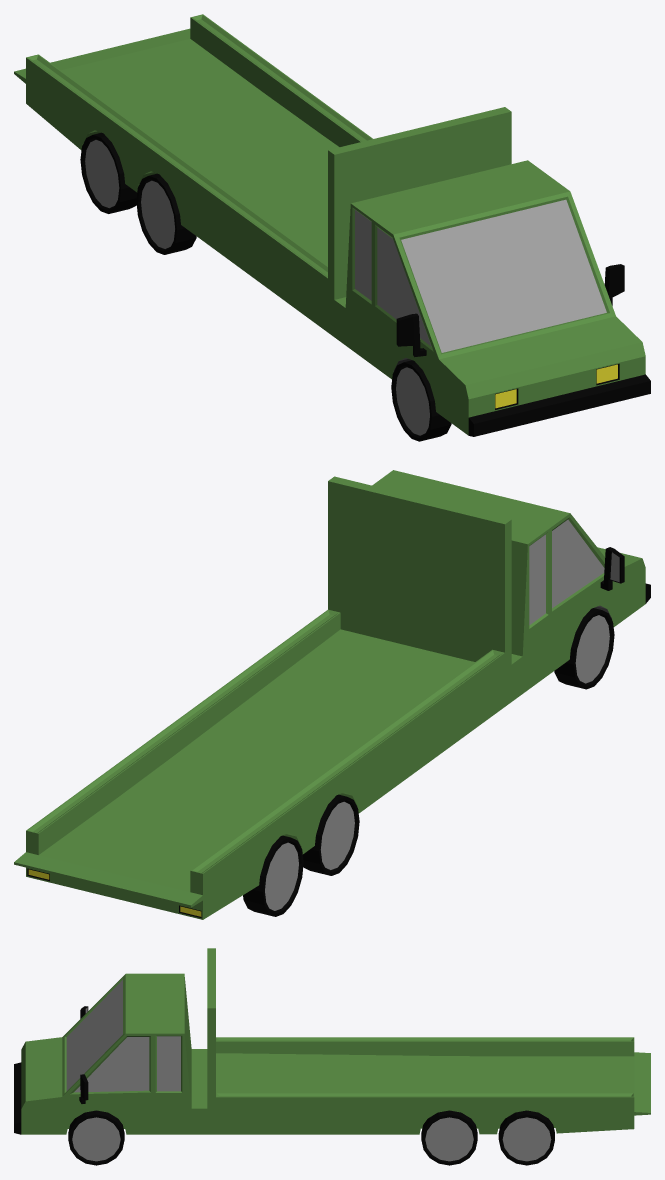
The model's file is Flatback Truck 1.fbx.
The picture shows the model from 3 angles, top to bottom: view 1: azimuth 30°, elevation 25°; view 2: azimuth 150°, elevation 25°; view 3: azimuth 270°, elevation 25°; orthographic projection. The views are drawn at different scales.
Parts seen in each view (by area): view 1: Flatback Truck Body.001, Wheel RR 1.001, Wheel FR.013, Wheel RR 2.001; view 2: Flatback Truck Body.001, Wheel RR 2.001, Wheel FR.013, Wheel RR 1.001; view 3: Flatback Truck Body.001, Wheel RL 1.001, Wheel FL.013, Wheel RL 2.001.
Boxes of the visible parts, box(x1,y1,x2,y2) form: Flatback Truck Body.001: box(14, 14, 650, 436); Wheel RR 1.001: box(136, 173, 196, 254); Wheel FR.013: box(391, 360, 451, 441); Wheel RR 2.001: box(80, 132, 136, 213); Flatback Truck Body.001: box(14, 470, 650, 919); Wheel RR 2.001: box(243, 835, 303, 916); Wheel FR.013: box(554, 608, 614, 689); Wheel RR 1.001: box(303, 794, 359, 875); Flatback Truck Body.001: box(14, 948, 650, 1134); Wheel RL 1.001: box(421, 1110, 477, 1165); Wheel FL.013: box(68, 1110, 124, 1165); Wheel RL 2.001: box(498, 1110, 554, 1165).
Bounding box in the file's own units: 2.42 × 2.3 × 8.53.
